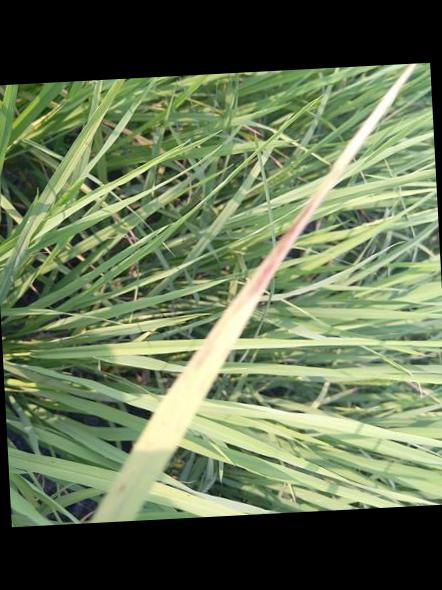Leaf Blight: (185, 192, 327, 370), (107, 482, 128, 497)
